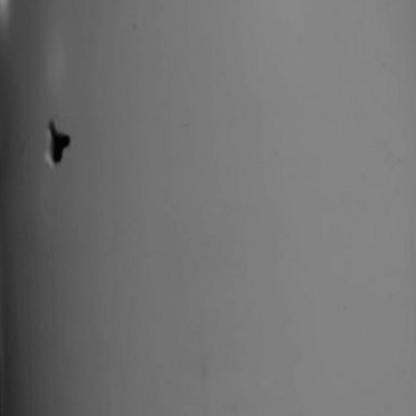kongdong: (38, 114, 84, 169)
